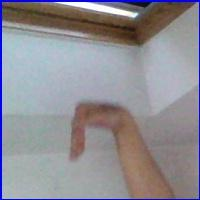del: (64, 99, 141, 168)
